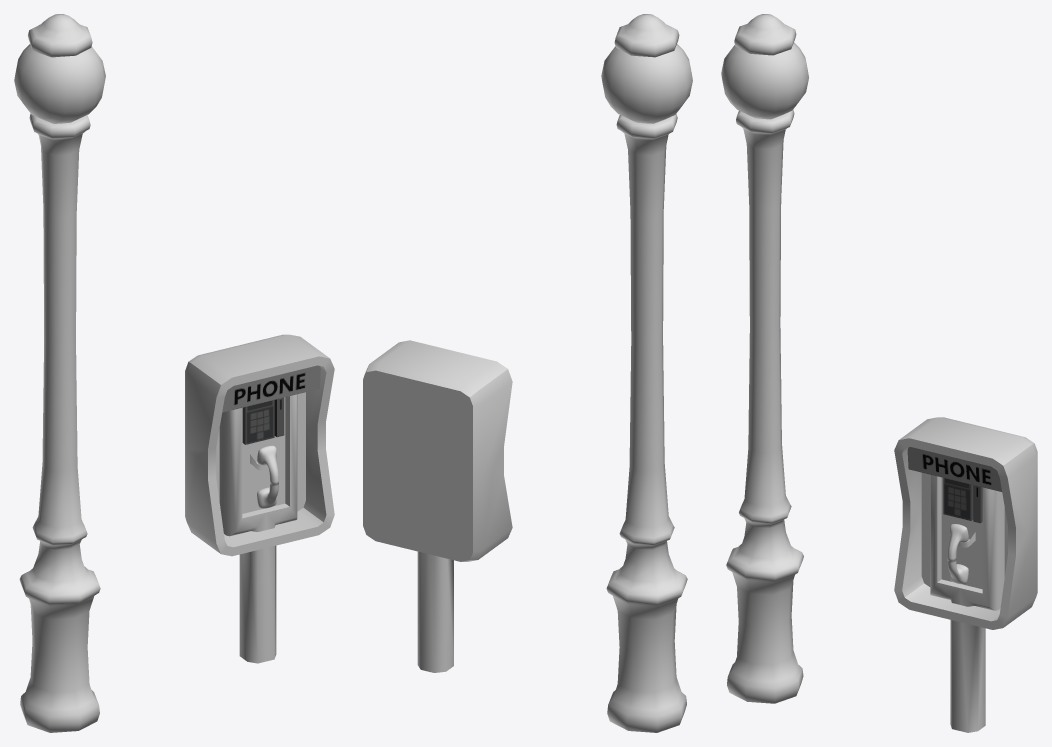
Rendered from Payphone.fbx.
3 renders of one model, left to right at view 1: azimuth 30°, elevation 25°; view 2: azimuth 150°, elevation 25°; view 3: azimuth 330°, elevation 25°, orthographic. The views are drawn at different scales.
Visible parts, largest first — view 1: Cube.006, Cube, Cube.001, Cube.007, Cube.004, Cube.003, Cube.002; view 2: Cube.006, Cube, Cube.007, Cube.001; view 3: Cube.006, Cube, Cube.001, Cube.007, Cube.004, Cube.003, Cube.002.
Boxes of the visible parts, left/top/right/bottom form: Cube.006: left=19, top=14, right=100, bottom=732; Cube: left=185, top=334, right=334, bottom=556; Cube.001: left=219, top=394, right=297, bottom=663; Cube.007: left=14, top=44, right=105, bottom=123; Cube.004: left=222, top=365, right=320, bottom=412; Cube.003: left=242, top=397, right=284, bottom=444; Cube.002: left=257, top=445, right=278, bottom=508; Cube.006: left=606, top=14, right=687, bottom=732; Cube: left=363, top=340, right=512, bottom=561; Cube.007: left=601, top=44, right=692, bottom=123; Cube.001: left=417, top=551, right=453, bottom=672; Cube.006: left=726, top=14, right=803, bottom=703; Cube: left=894, top=417, right=1037, bottom=629; Cube.001: left=930, top=474, right=1004, bottom=732; Cube.007: left=721, top=42, right=808, bottom=119; Cube.004: left=907, top=447, right=1001, bottom=491; Cube.003: left=943, top=478, right=982, bottom=523; Cube.002: left=947, top=524, right=968, bottom=584.
Size of the model in its own units: 371 by 822 by 101.
